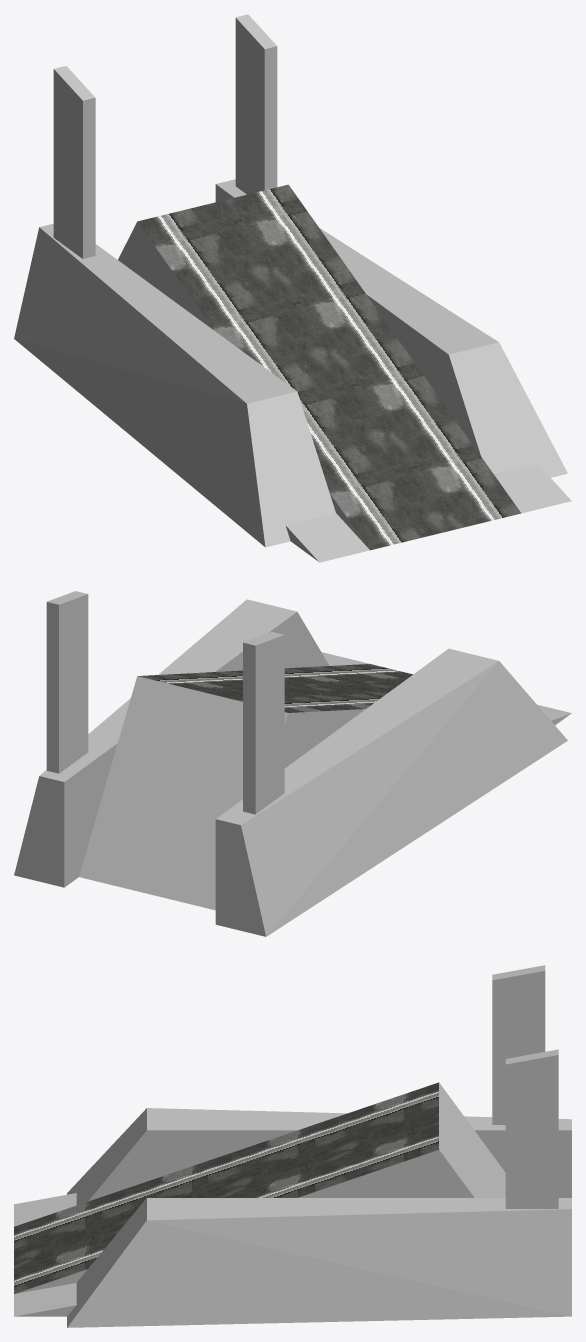
Rendered from boostpad.obj.
3 renders of one model, top to bottom at view 1: azimuth 30°, elevation 25°; view 2: azimuth 150°, elevation 25°; view 3: azimuth 270°, elevation 25°, orthographic. The views are drawn at different scales.
Parts seen in each view (by area): view 1: entity0_brush0, entity0_brush5, entity0_brush3, entity0_brush4, entity0_brush6, entity0_brush2, entity0_brush1; view 2: entity0_brush5, entity0_brush0, entity0_brush3, entity0_brush6, entity0_brush4; view 3: entity0_brush3, entity0_brush0, entity0_brush5, entity0_brush6, entity0_brush4, entity0_brush1, entity0_brush2.
Part boxes in pixels (<box>): entity0_brush0: <box>118,184,521,550</box>; entity0_brush5: <box>14,223,335,547</box>; entity0_brush3: <box>215,179,567,477</box>; entity0_brush4: <box>53,66,95,258</box>; entity0_brush6: <box>235,14,277,194</box>; entity0_brush2: <box>285,513,369,562</box>; entity0_brush1: <box>494,463,571,513</box>; entity0_brush5: <box>215,648,567,936</box>; entity0_brush0: <box>79,664,412,910</box>; entity0_brush3: <box>14,599,329,887</box>; entity0_brush6: <box>46,591,88,773</box>; entity0_brush4: <box>243,632,284,814</box>; entity0_brush3: <box>67,1198,571,1327</box>; entity0_brush0: <box>14,1082,505,1293</box>; entity0_brush5: <box>67,1108,571,1205</box>; entity0_brush6: <box>505,1049,558,1208</box>; entity0_brush4: <box>492,965,545,1124</box>; entity0_brush1: <box>14,1283,76,1316</box>; entity0_brush2: <box>14,1193,76,1226</box>.
Size of the model in its own units: 96 by 83.2 by 168.
